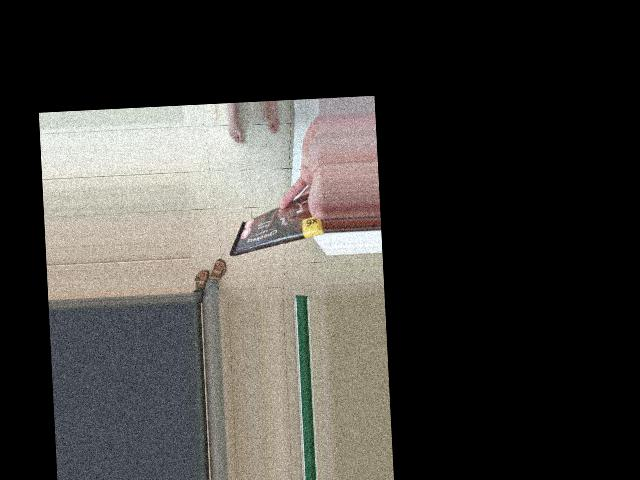chocolate: (203, 162, 287, 265)
